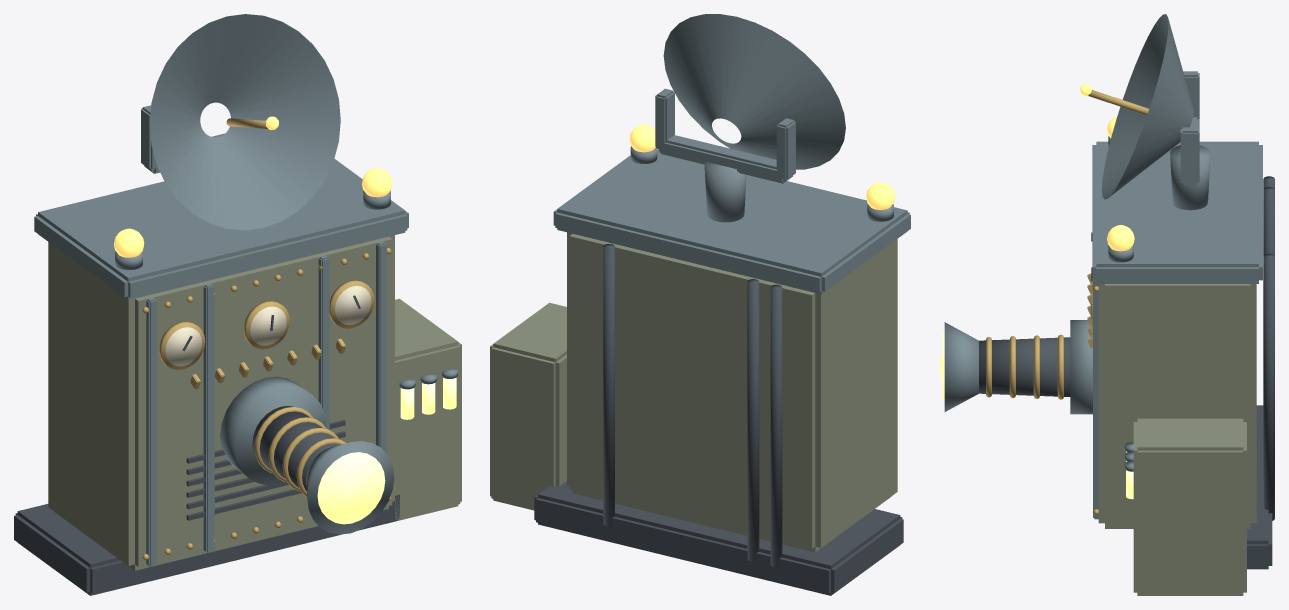
File: radar_device.glb
The picture shows the model from 3 angles, left to right: view 1: azimuth 30°, elevation 25°; view 2: azimuth 150°, elevation 25°; view 3: azimuth 270°, elevation 25°; orthographic projection. The views are drawn at different scales.
Visible parts, largest first — view 1: Body, Dish, Crown, SideCab, Plinth, TubeCollar, NozzleCore, Rib1, NozzleFlare, Rib0, Tube, Rib3 (+15 smaller); view 2: Body, Crown, Dish, Plinth, SideCab, Cable0, Cable1, Cable2, Yoke, YokePost, YokeArm-1, YokeArm1 (+2 smaller); view 3: Body, SideCab, Crown, Dish, Tube, Cable2, NozzleFlare, Plinth, TubeCollar, YokePost, Rib3, YokeArm1 (+5 smaller).
Part boxes in pixels (box(x1,y1,x2,y2)): Body: box(48, 235, 394, 570); Dish: box(149, 14, 340, 230); Crown: box(34, 159, 408, 300); SideCab: box(393, 298, 461, 521); Plinth: box(14, 494, 399, 595); TubeCollar: box(220, 376, 326, 485); NozzleCore: box(317, 452, 385, 524); Rib1: box(203, 283, 214, 552); NozzleFlare: box(306, 441, 394, 534); Rib0: box(146, 297, 156, 566); Tube: box(252, 406, 340, 490); Rib3: box(376, 241, 386, 509); Body: box(567, 232, 897, 552); Crown: box(553, 149, 910, 294); Dish: box(663, 14, 845, 169); Plinth: box(534, 481, 903, 595); SideCab: box(490, 302, 566, 510); Cable0: box(770, 284, 782, 567); Cable1: box(747, 279, 759, 561); Cable2: box(603, 243, 614, 526); Yoke: box(658, 135, 792, 183); YokePost: box(704, 161, 746, 222); YokeArm-1: box(776, 118, 795, 180); YokeArm1: box(655, 88, 674, 149); Body: box(1098, 284, 1256, 528); SideCab: box(1133, 418, 1246, 595); Crown: box(1092, 141, 1262, 283); Dish: box(1101, 14, 1193, 199); Tube: box(979, 337, 1070, 396); Cable2: box(1263, 253, 1274, 520); NozzleFlare: box(944, 322, 978, 411); Plinth: box(1247, 405, 1272, 569); TubeCollar: box(1070, 320, 1092, 414); YokePost: box(1170, 145, 1210, 210); Rib3: box(1093, 280, 1098, 519); YokeArm1: box(1180, 127, 1199, 182).
Size of the model in its own units: 6.2 by 8.36 by 5.32.
